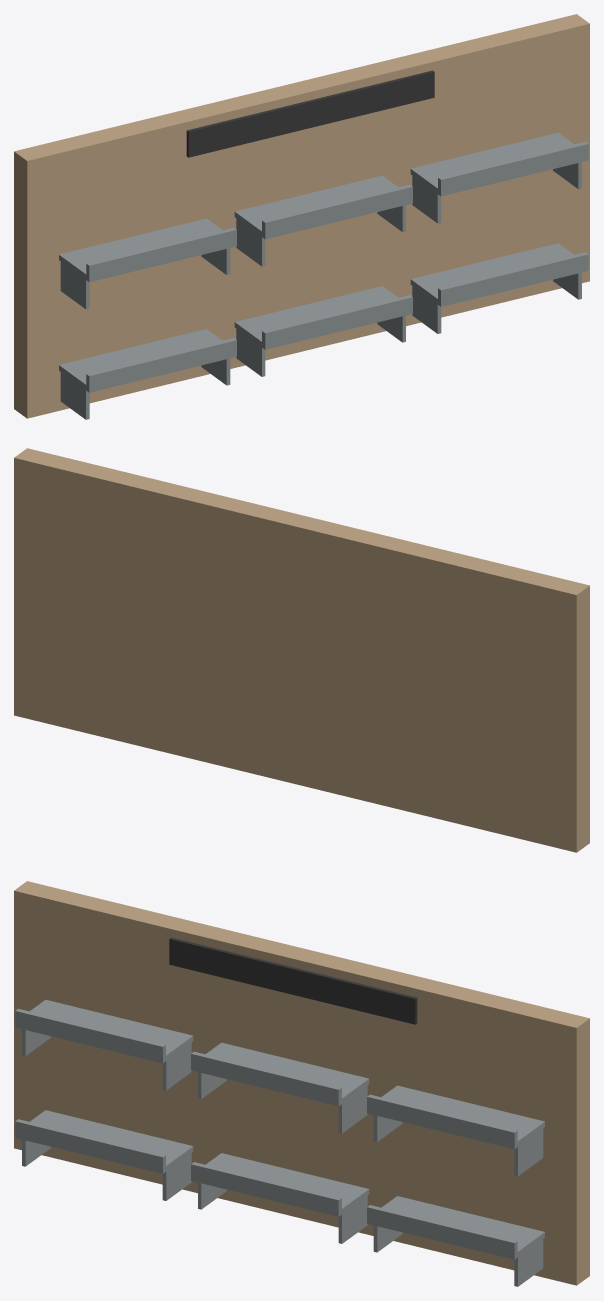
The model's file is boat_tool_rack.fbx.
The picture shows the model from 3 angles, top to bottom: view 1: azimuth 30°, elevation 25°; view 2: azimuth 150°, elevation 25°; view 3: azimuth 330°, elevation 25°; orthographic projection.
Parts seen in each view (by area): view 1: boat_tool_rack; view 2: boat_tool_rack; view 3: boat_tool_rack.
Boxes of the visible parts, x1,y1,x2,y2 form: boat_tool_rack: (14,14,589,419); boat_tool_rack: (14,448,589,852); boat_tool_rack: (14,881,589,1286).
Size of the model in its own units: 3.2 by 1.4 by 0.43.
